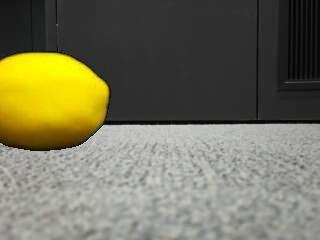lemon: (0, 52, 107, 151)
